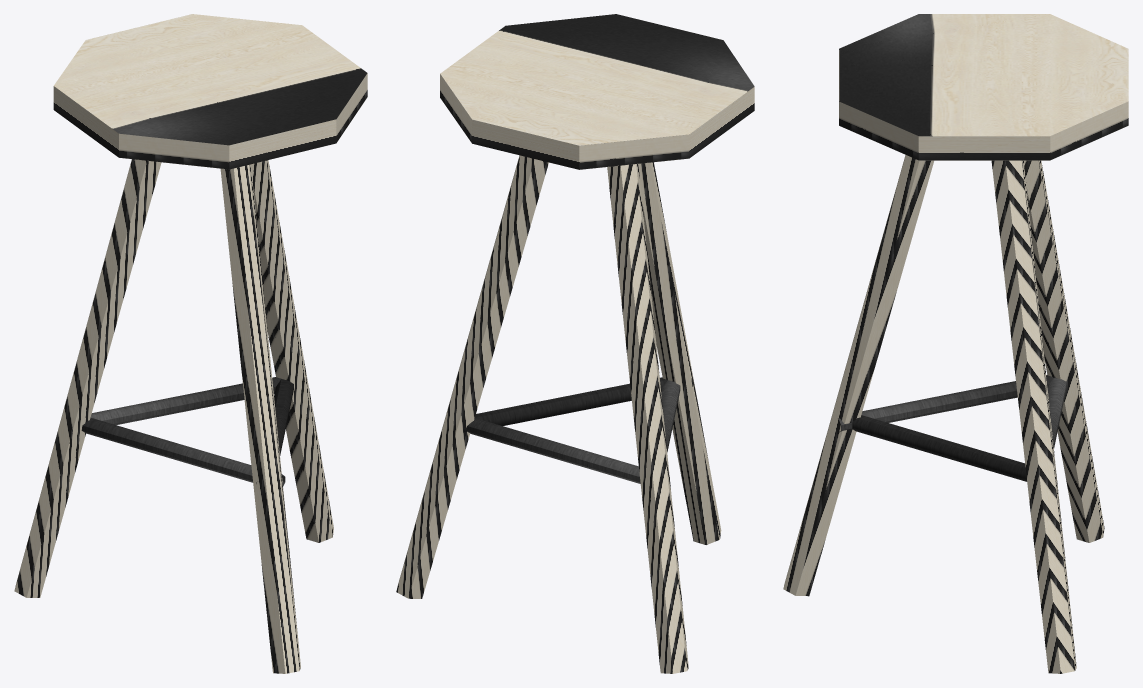
The model's file is aws_ChairB_01_collision.DAE.
The picture shows the model from 3 angles, left to right: view 1: azimuth 30°, elevation 25°; view 2: azimuth 150°, elevation 25°; view 3: azimuth 270°, elevation 25°; orthographic projection.
Visible parts, largest first — view 1: aws_ChairB_01_collision; view 2: aws_ChairB_01_collision; view 3: aws_ChairB_01_collision.
Part boxes in pixels (<box>): aws_ChairB_01_collision: <box>14,14,367,673</box>; aws_ChairB_01_collision: <box>396,14,754,673</box>; aws_ChairB_01_collision: <box>783,14,1128,673</box>.
Bounding box in the file's own units: 45.48 × 44.4 × 74.54.
Materials: 1 (1 with a texture image).
